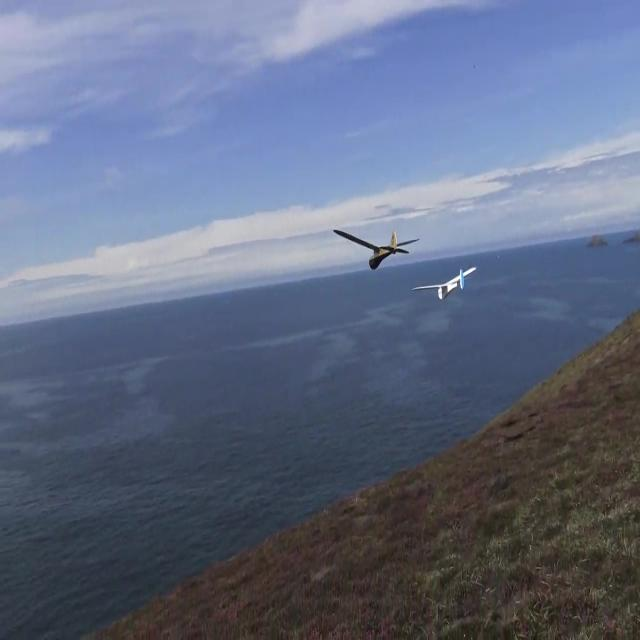iha: (365, 227, 388, 271), (443, 265, 445, 302)
